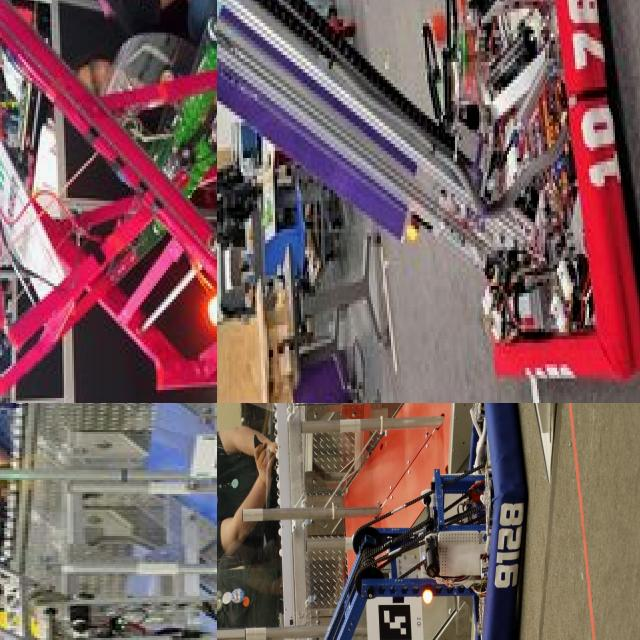FRC-Robots: (217, 0, 640, 403), (0, 0, 217, 395), (217, 403, 526, 640), (0, 542, 217, 640)
